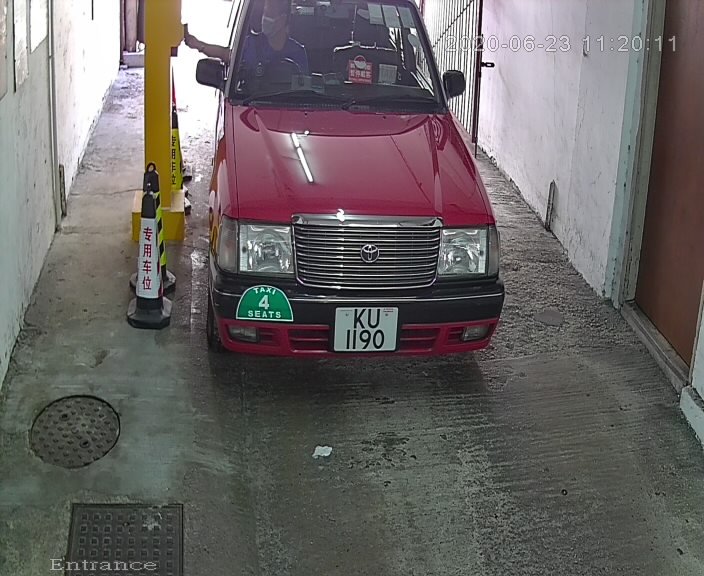taxi: (178, 1, 523, 385)
taxi_mark: (231, 280, 307, 340)
